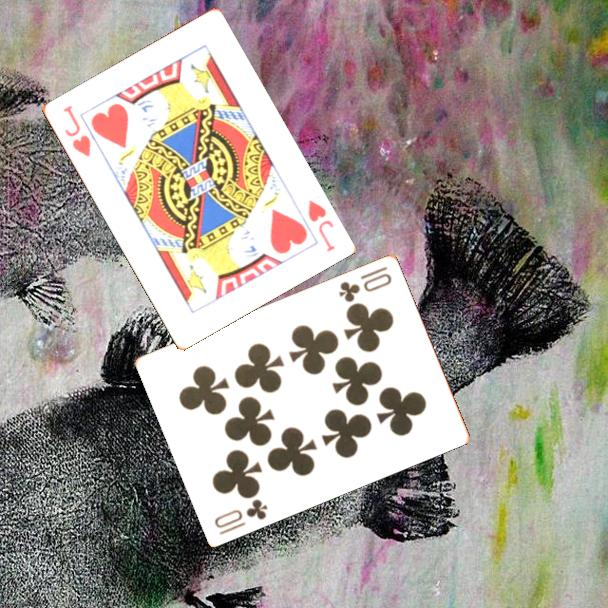c10: (335, 262, 395, 305), (211, 495, 271, 537)
h11: (59, 101, 93, 160), (304, 196, 338, 255)
